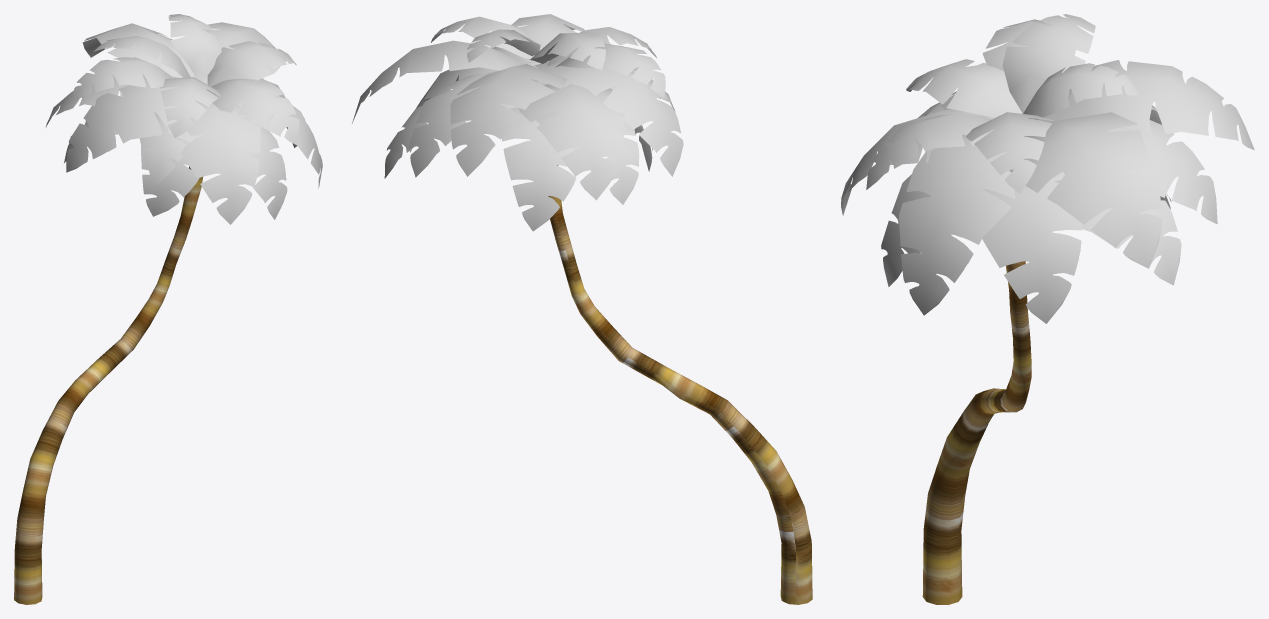
File: Palm_Small.fbx
3 views of the same model, side by side, from view 1: azimuth 30°, elevation 25°; view 2: azimuth 150°, elevation 25°; view 3: azimuth 270°, elevation 25° (orthographic). The views are drawn at different scales.
Parts seen in each view (by area): view 1: Stvol3; view 2: Stvol3; view 3: Stvol3.
Boxes of the visible parts, <box> form: Stvol3: <box>14,14,322,604</box>; Stvol3: <box>352,14,812,604</box>; Stvol3: <box>841,14,1254,604</box>.
Size of the model in its own units: 414 by 586 by 327.
